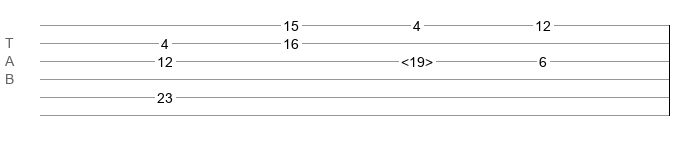12: (157, 54, 173, 64), (535, 18, 551, 28)
15: (283, 18, 299, 28)
16: (283, 36, 299, 46)
23: (157, 90, 173, 100)
4: (161, 36, 169, 46), (413, 18, 421, 28)
6: (539, 54, 547, 64)
harmonic: (401, 54, 433, 64)
